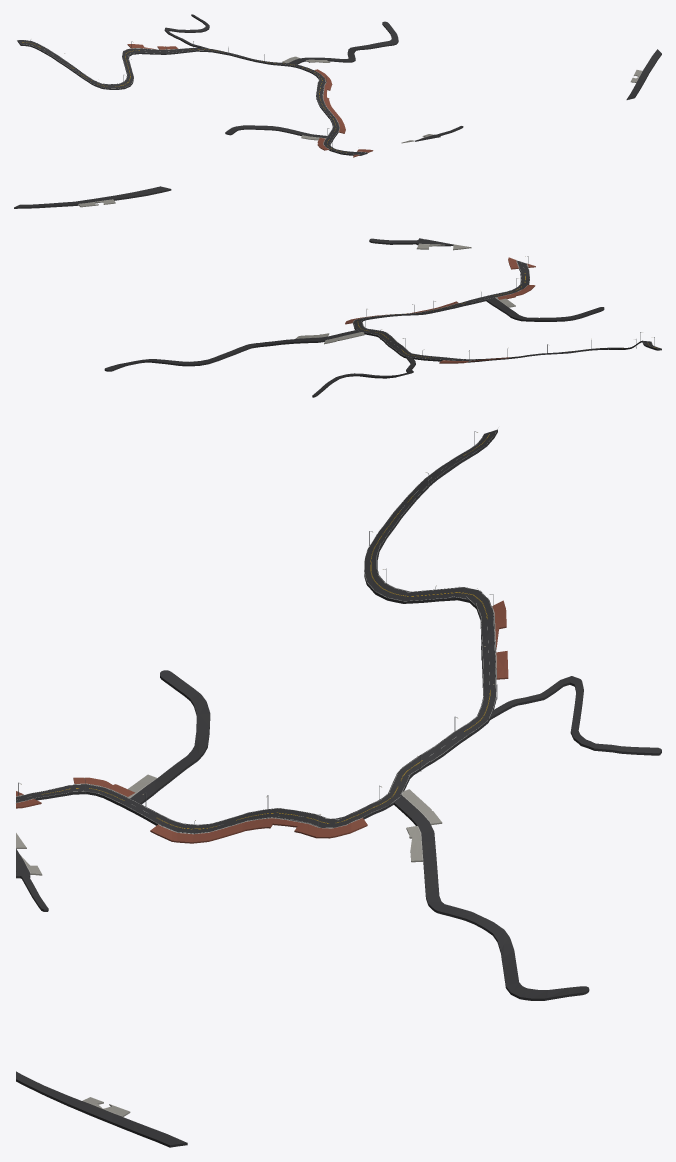
3 views of the same model, one above another, from view 1: azimuth 30°, elevation 25°; view 2: azimuth 150°, elevation 25°; view 3: azimuth 270°, elevation 25° (orthographic). The views are drawn at different scales.
Size of the model in its own units: 590 by 103 by 298.
